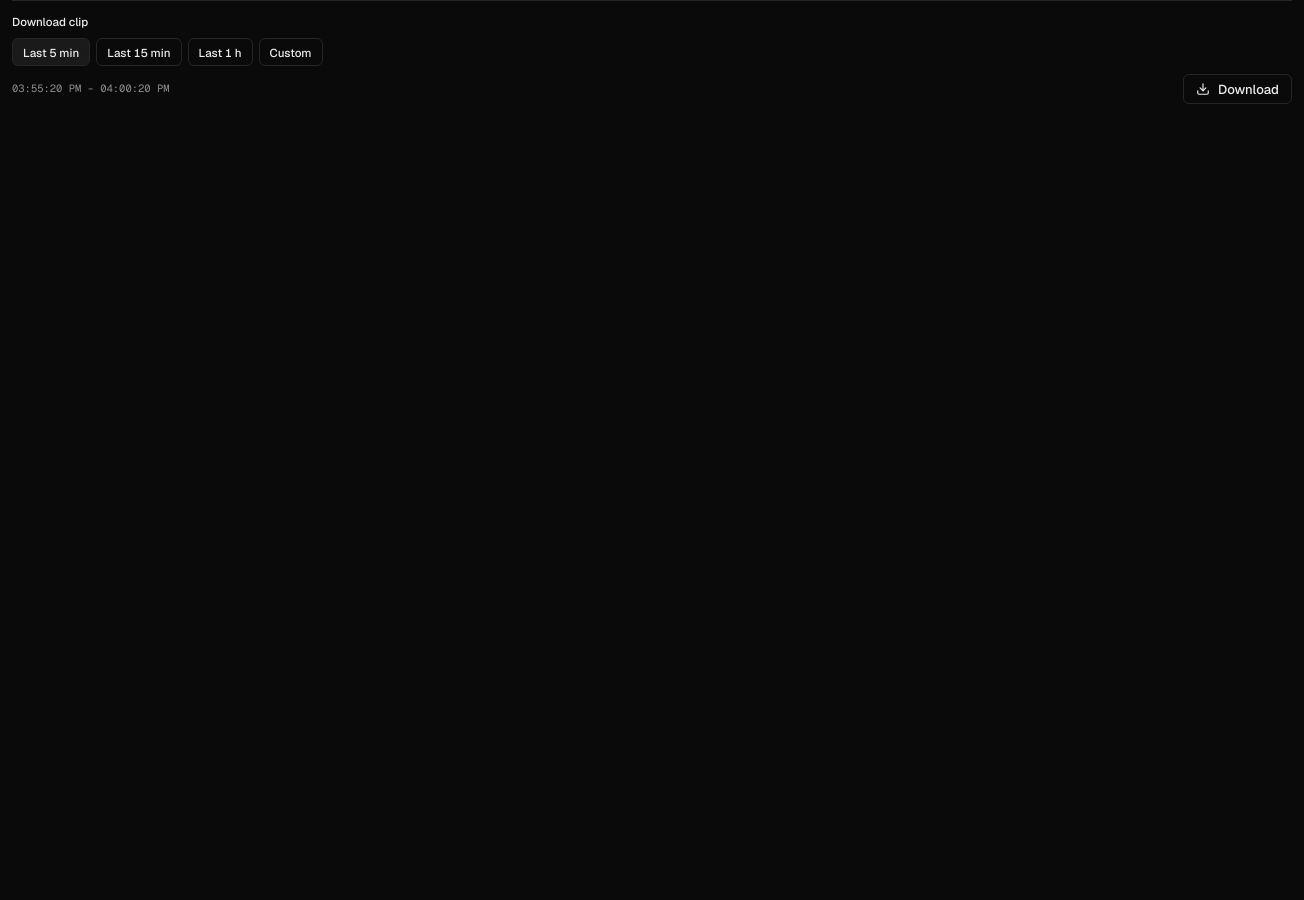
Test: progress › says it is preparing until the first byte, then counts bytes with no total
The image size is (1304, 900).
Click the button "Download".
click(1238, 89)  # box [1183,74,1292,104]
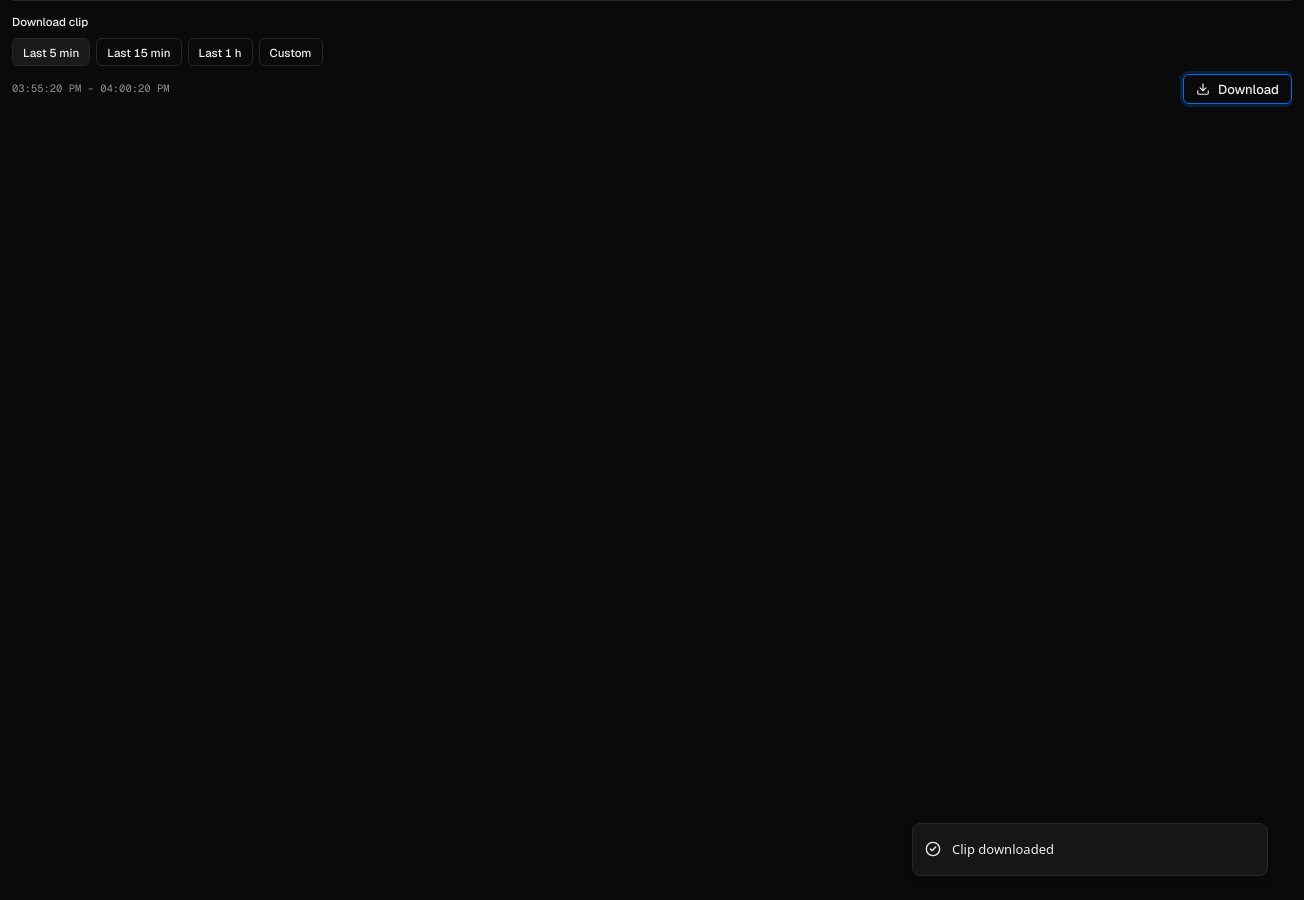
Expected: the text "03:55:20 PM – 04:00:20 PM" is shown, [12,81,170,97]
Now the text "Clip downloaded" is shown, box [952,840,1054,859]
